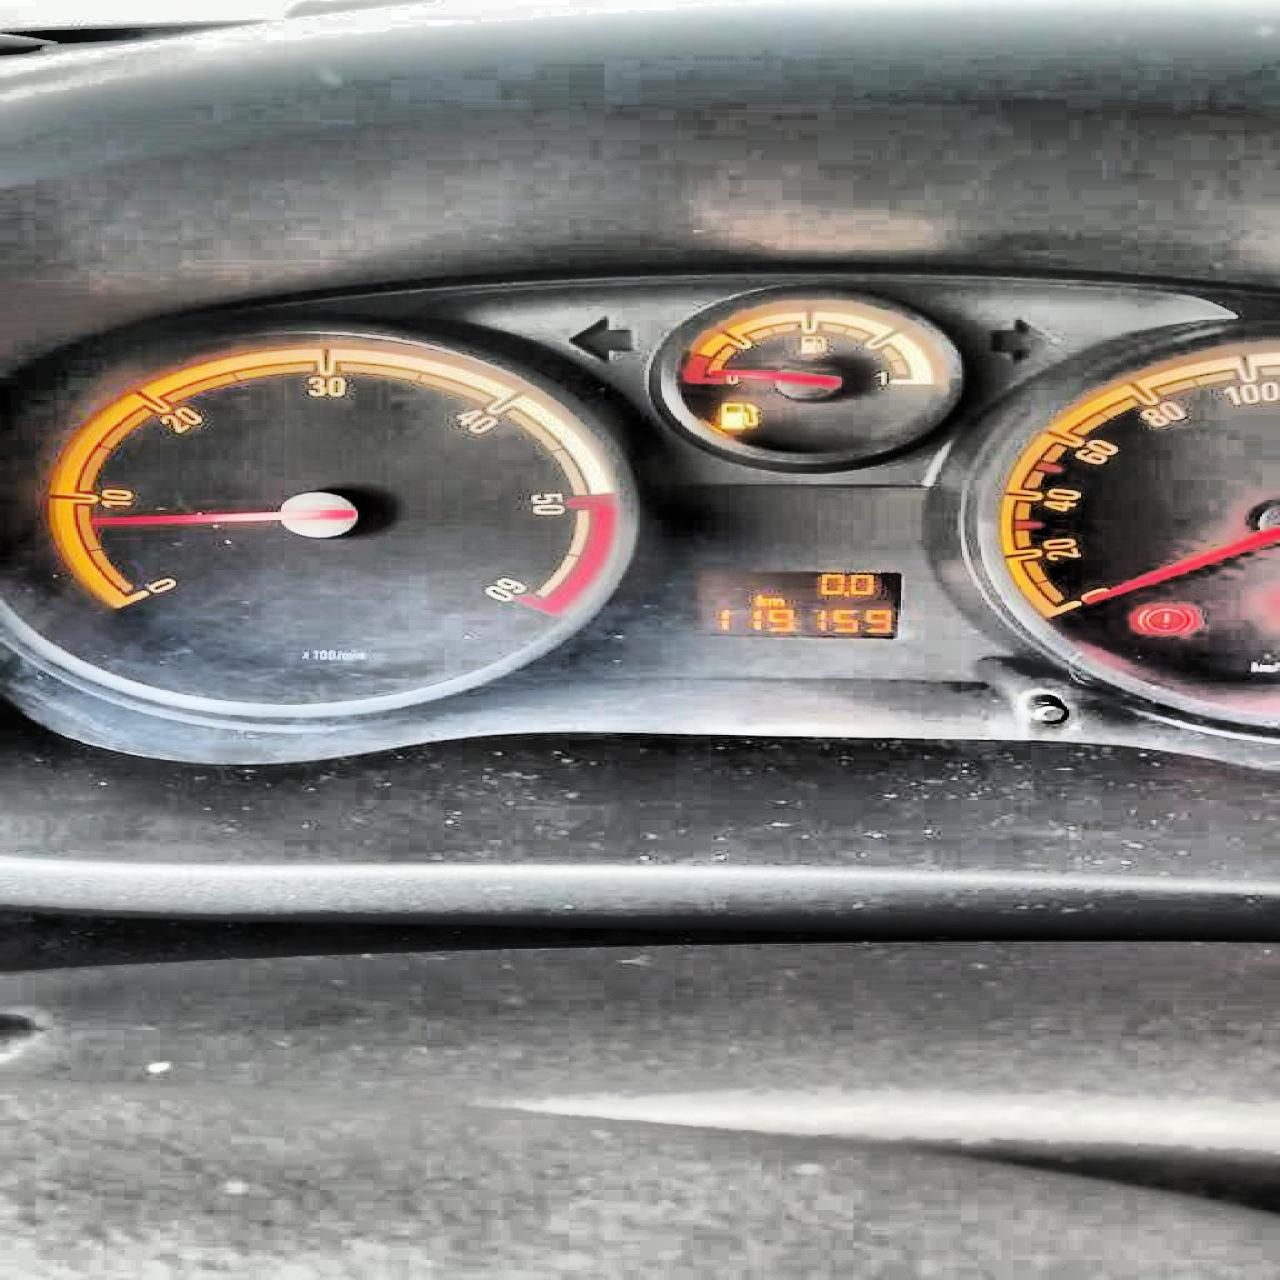-: (840, 588, 851, 598)
0: (846, 572, 876, 593), (816, 572, 843, 592)
1: (714, 606, 734, 632), (747, 607, 762, 633), (813, 606, 826, 634)
5: (829, 606, 858, 633)
9: (863, 606, 893, 635), (762, 607, 796, 633)
X: (754, 592, 767, 606), (767, 595, 784, 605)
odometer: (692, 568, 903, 640)
